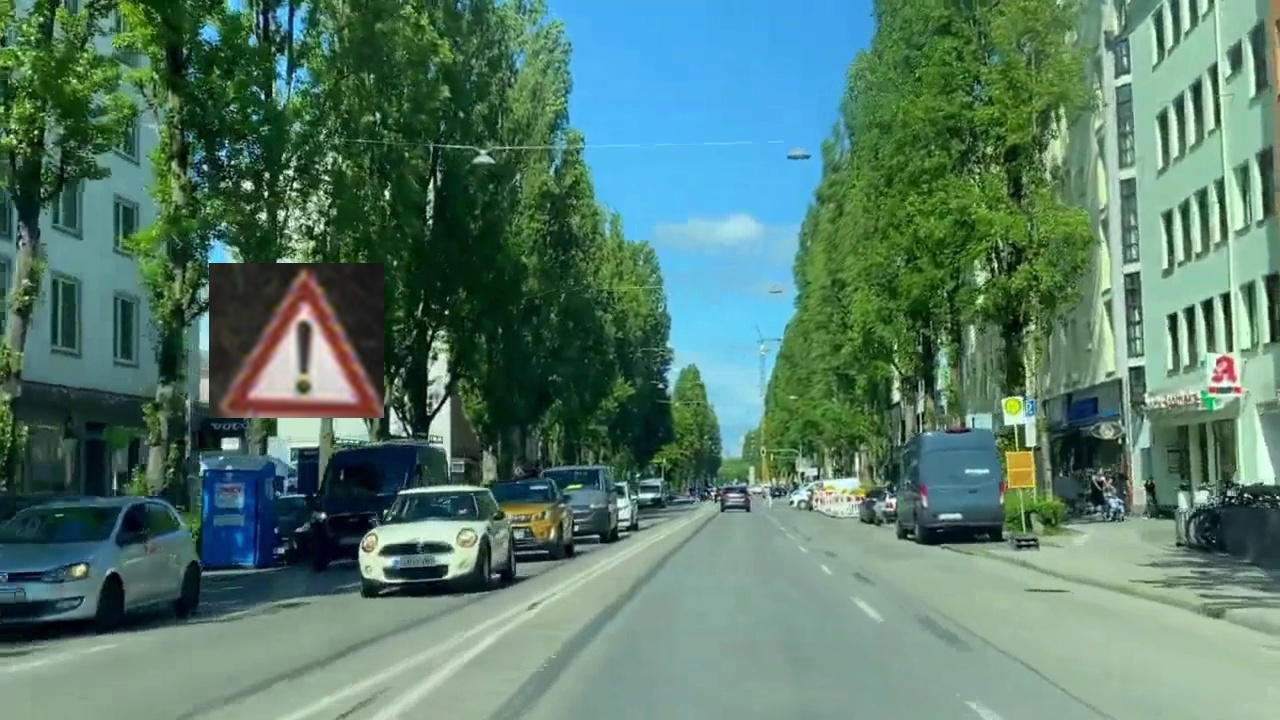Caution: (209, 263, 384, 418)
